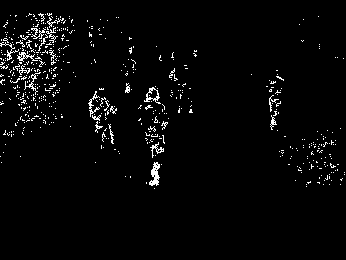person: (139, 86, 170, 197), (85, 84, 124, 155), (255, 67, 285, 142)
